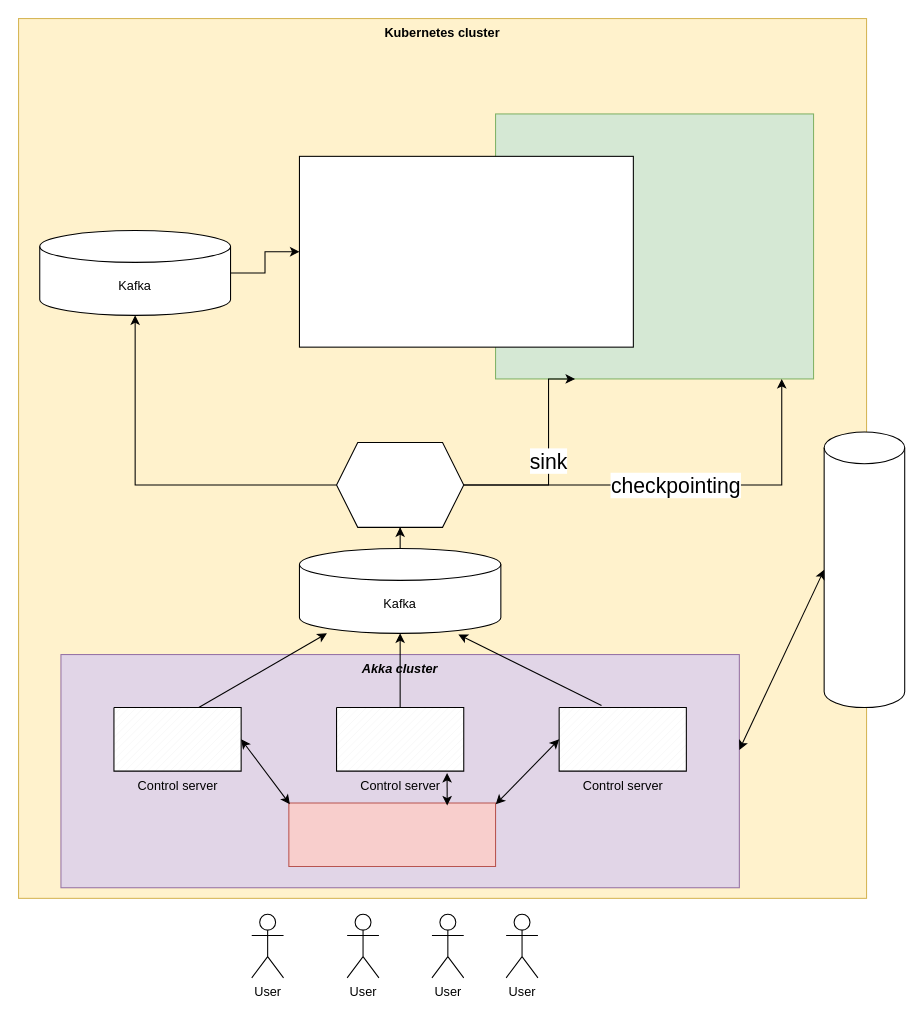
Some shapes in this 923 by 1019 pixel diagram are drawn without their labels. The shapes that lost their labels are listed below. From the top down, each one's centre as x and y in pixels, then its label:
point 465,251: Pinot cluster
point 654,246: MinIO
point 399,484: Flink
point 864,569: RoNDB User master data
point 392,834: Load-balancer layer
